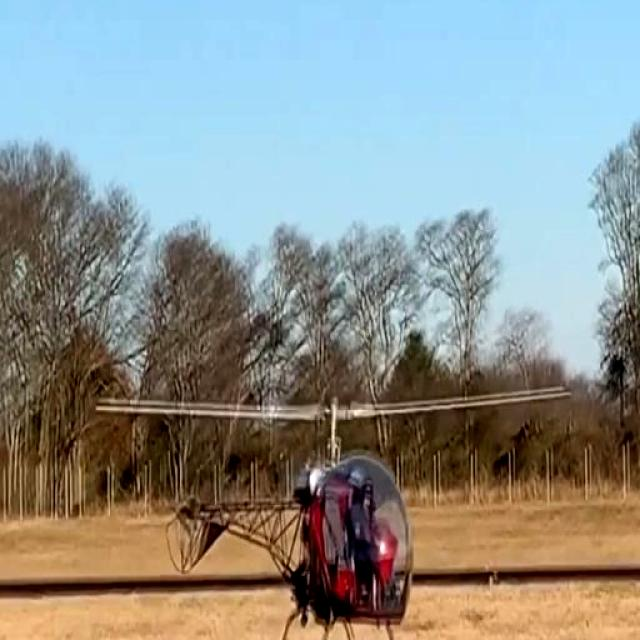drone: (88, 374, 581, 640)
